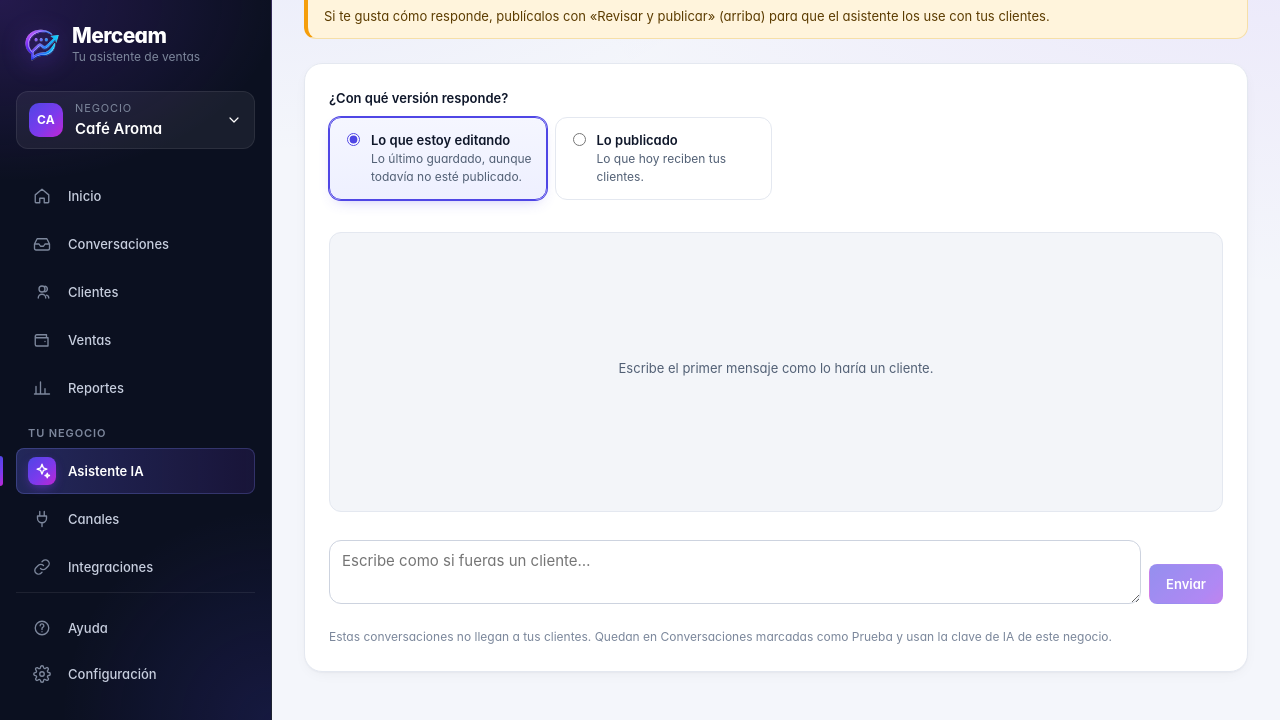
Scenario: Probar asistente › pide la clave de IA antes de conversar
(page scrolled)
Type "Hola" into the text box named "Mensaje de prueba" at (735, 572), box [329,540,1141,604]
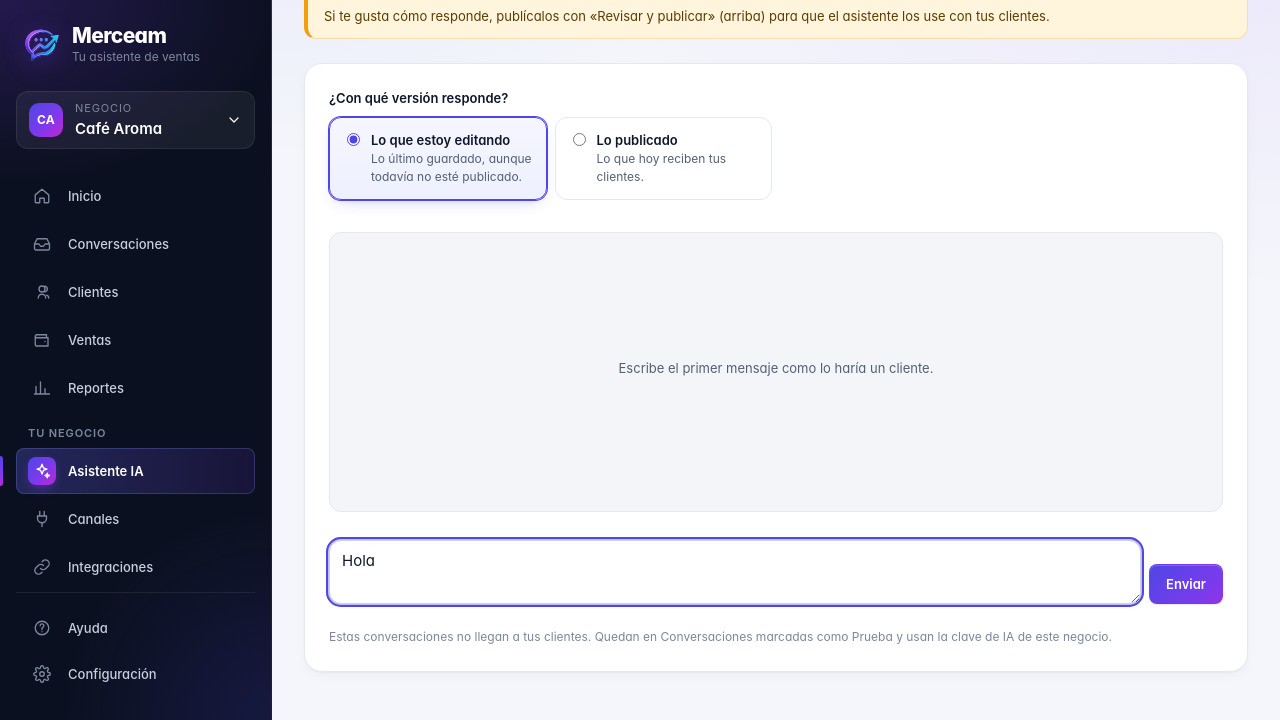
Click the button "Enviar" at (1186, 584), box [1149,564,1223,604]
(page scrolled)
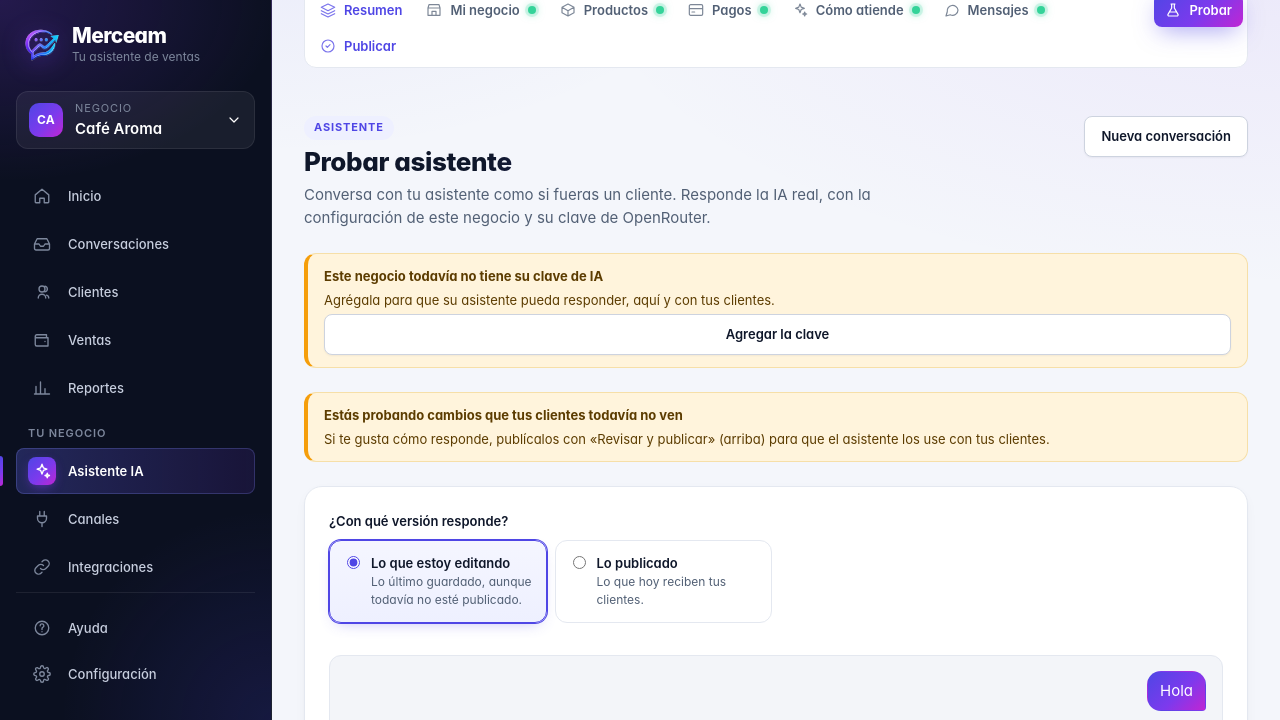
Expected: the text "Este negocio todavía no tiene su clave de IA" is shown, [324,268,603,284]
